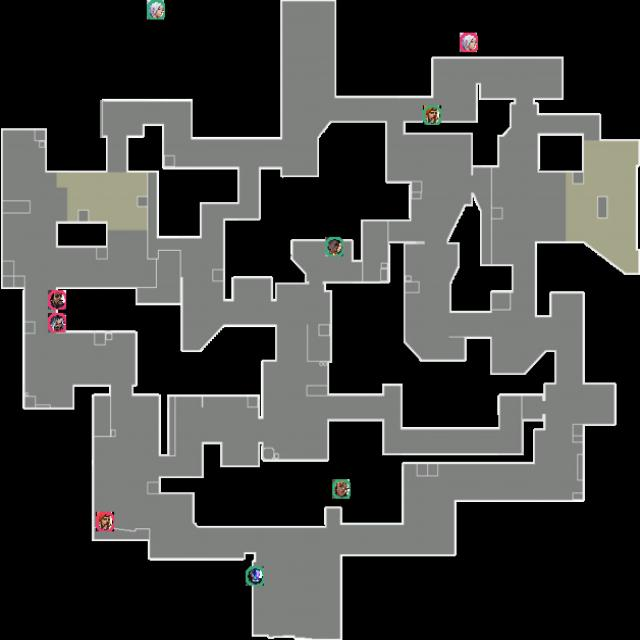atk_brimstone: (96, 512, 114, 531)
atk_fade: (48, 313, 66, 332)
atk_harbor: (48, 290, 66, 310)
atk_jett: (460, 33, 478, 52)
def_brimstone: (423, 105, 441, 125)
def_jett: (147, 0, 165, 20)
def_kayo: (246, 566, 264, 586)
def_phoenix: (325, 237, 344, 256)
def_raze: (332, 479, 351, 499)
